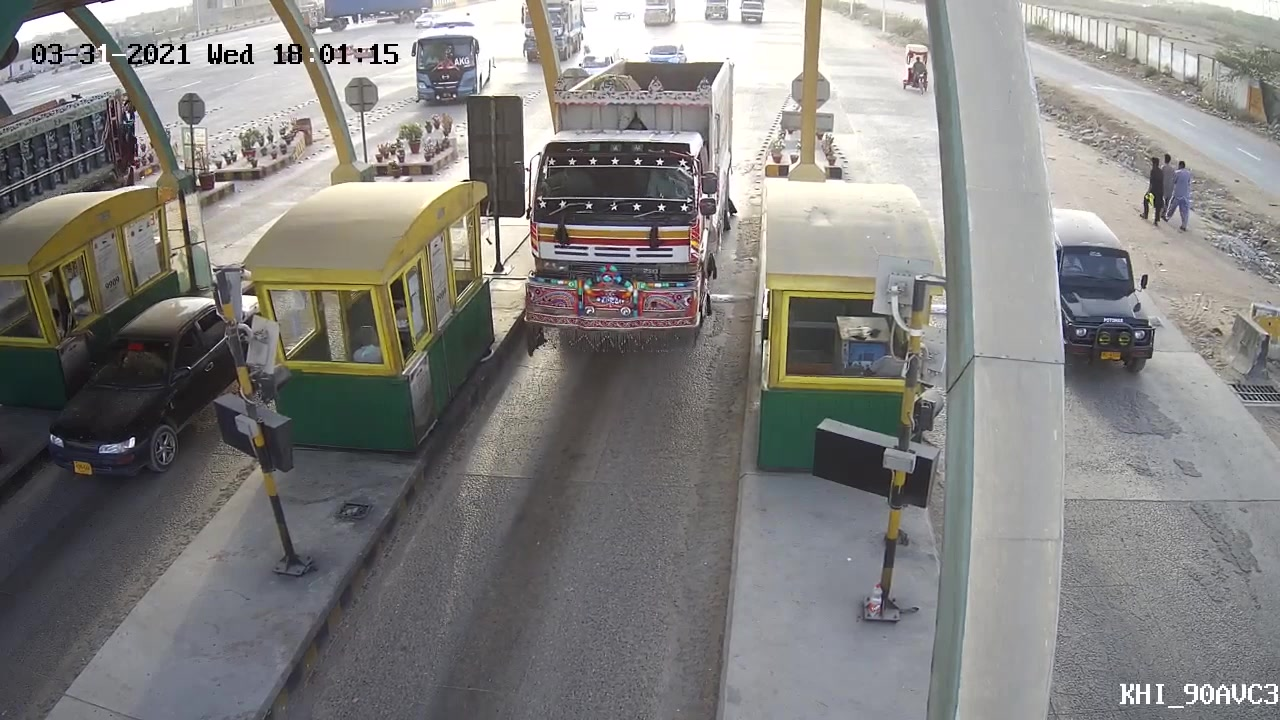F5: (501, 59, 742, 363)
